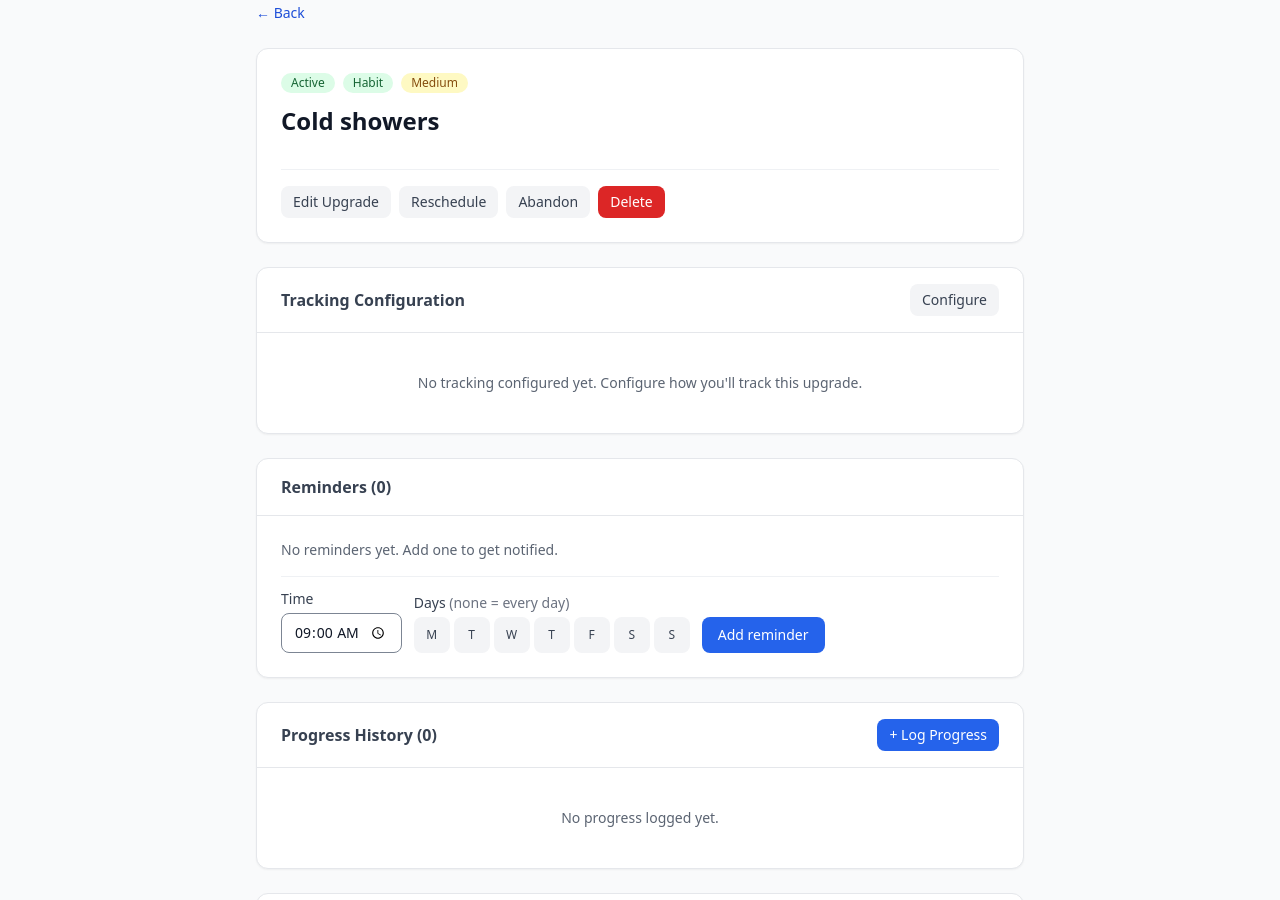
Test case: UpgradeDetailsPage › GivenAProgressEntryWasJustSaved_WhenLogProgressIsOpenedAgain_ThenTheFormIsEmpty
Expected: the heading "Cold showers" is shown, [281, 104, 440, 137]
Step 1. Click the button "+ Log Progress" → (938, 735), box [877, 719, 999, 751]
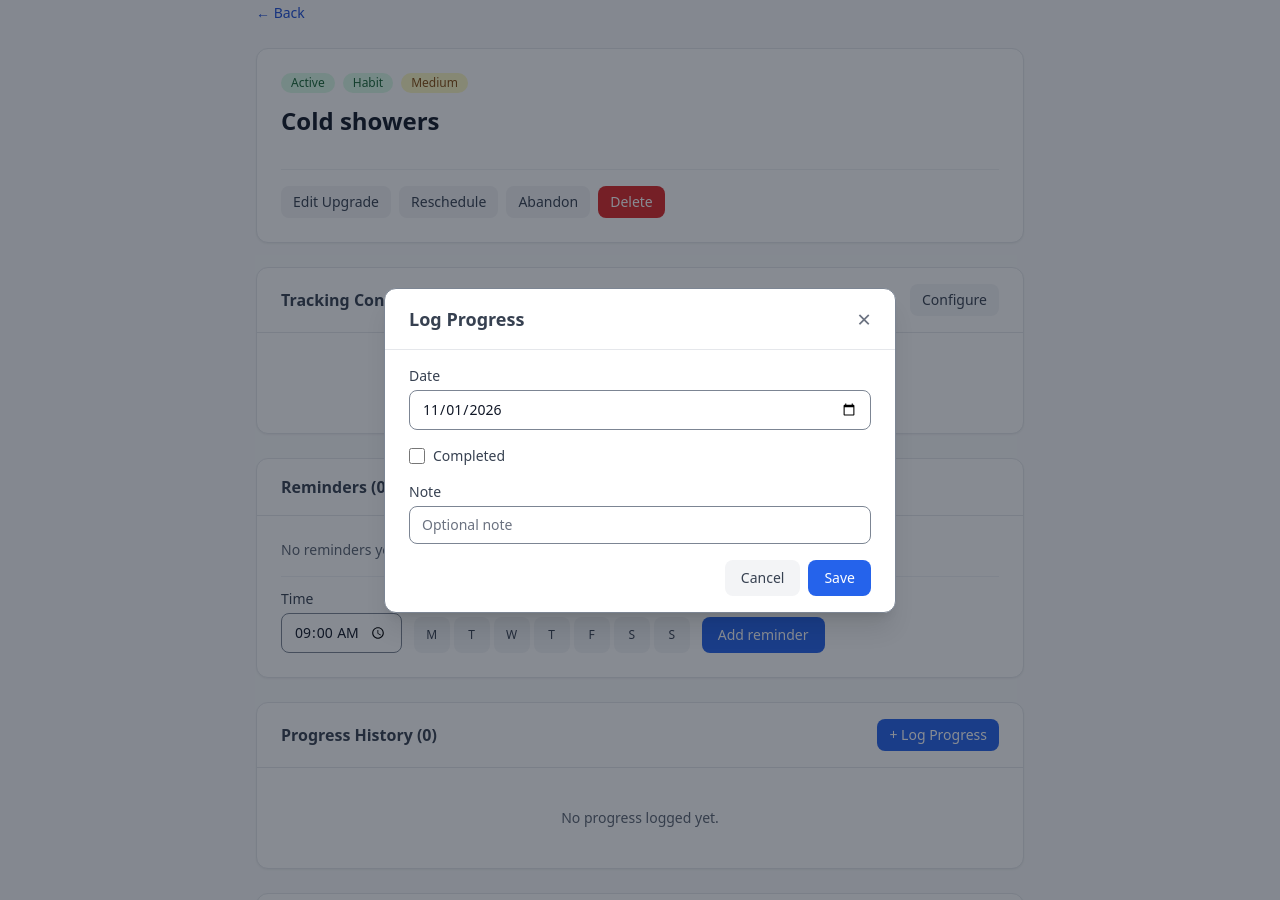
Step 2. Click the checkbox labelled "Completed" → (417, 456), box [409, 448, 425, 464]
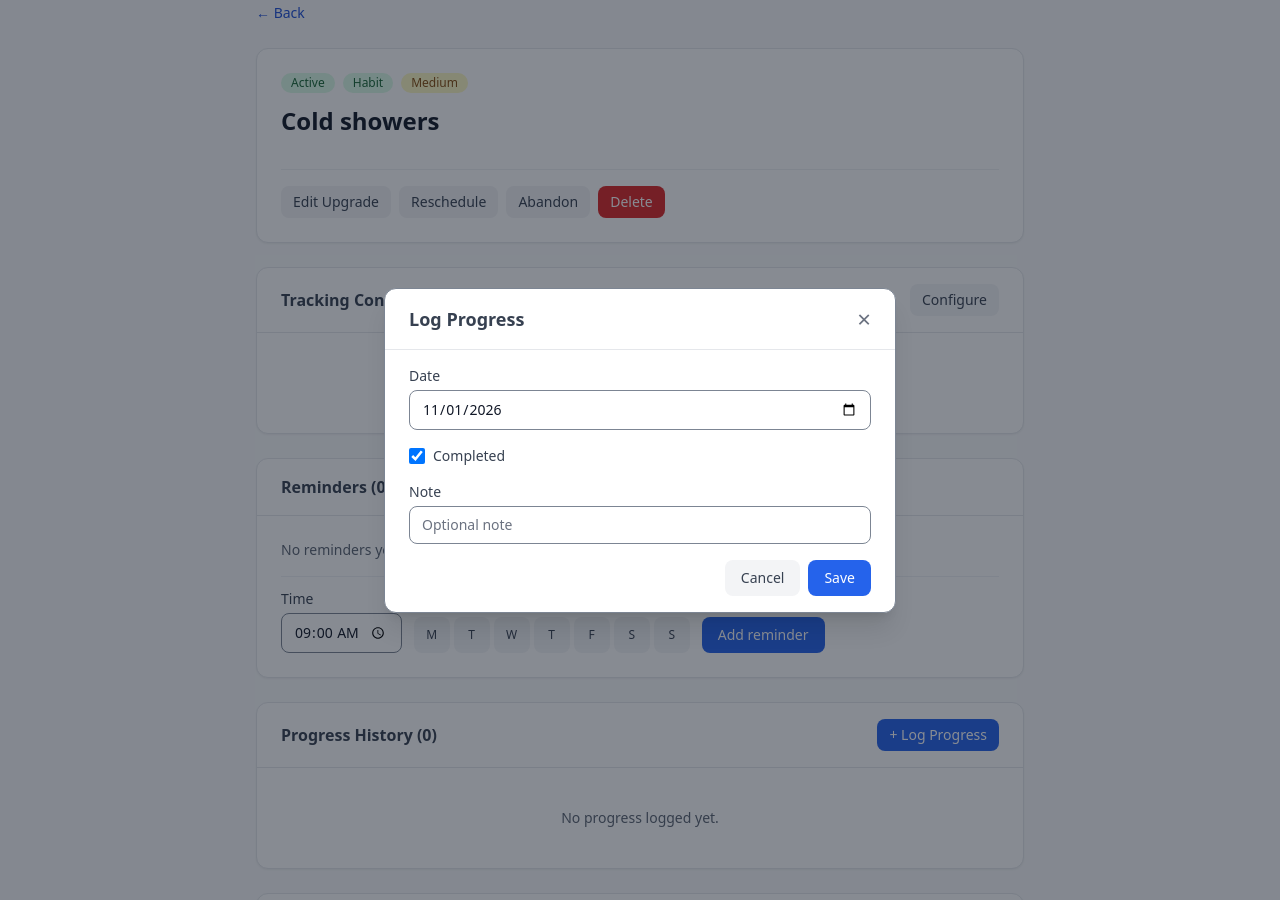
Step 3. Type "first go" into the field labelled "Note" → (640, 524), box [409, 506, 871, 544]
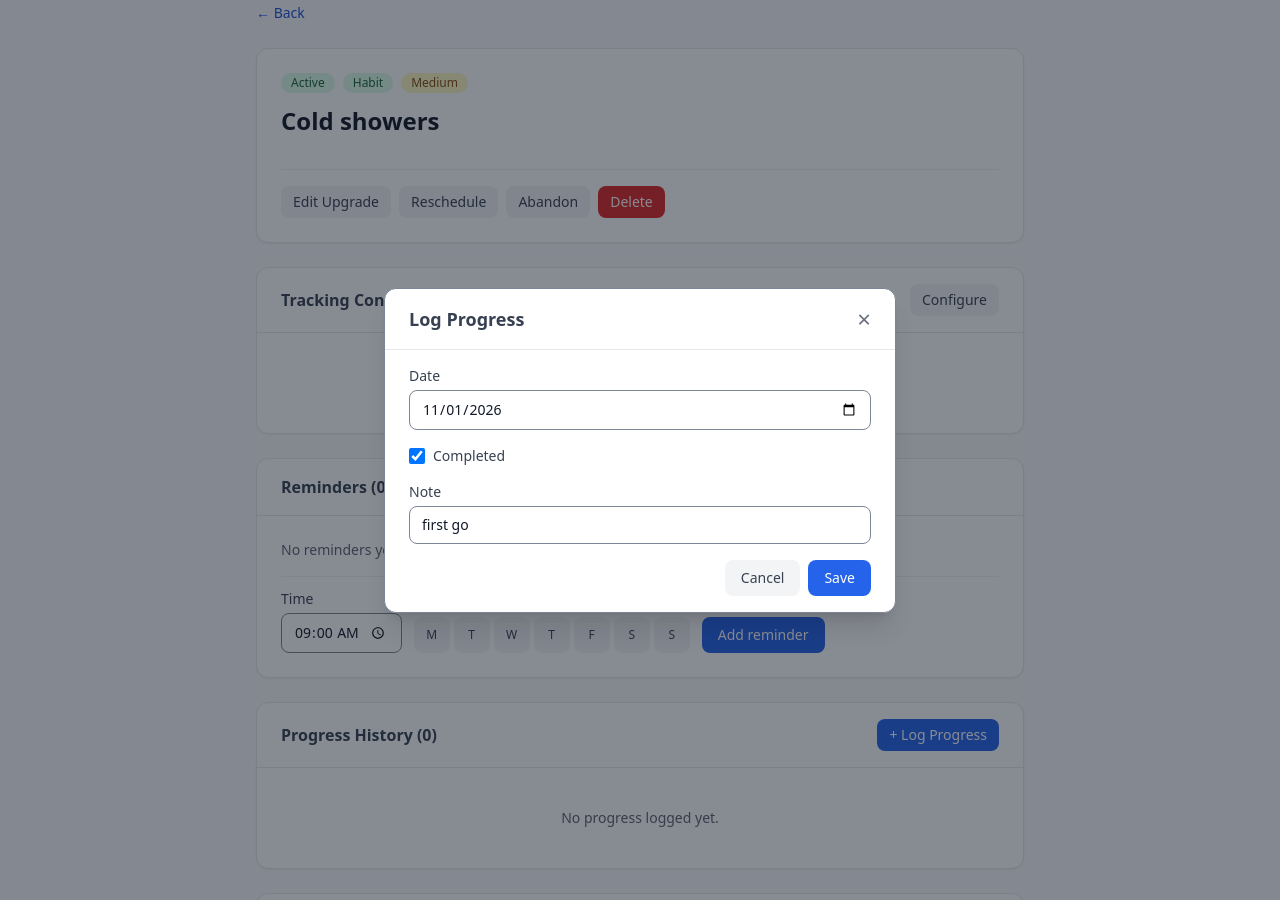
Step 4. Submit the form from the button "Save", box [808, 560, 871, 596]
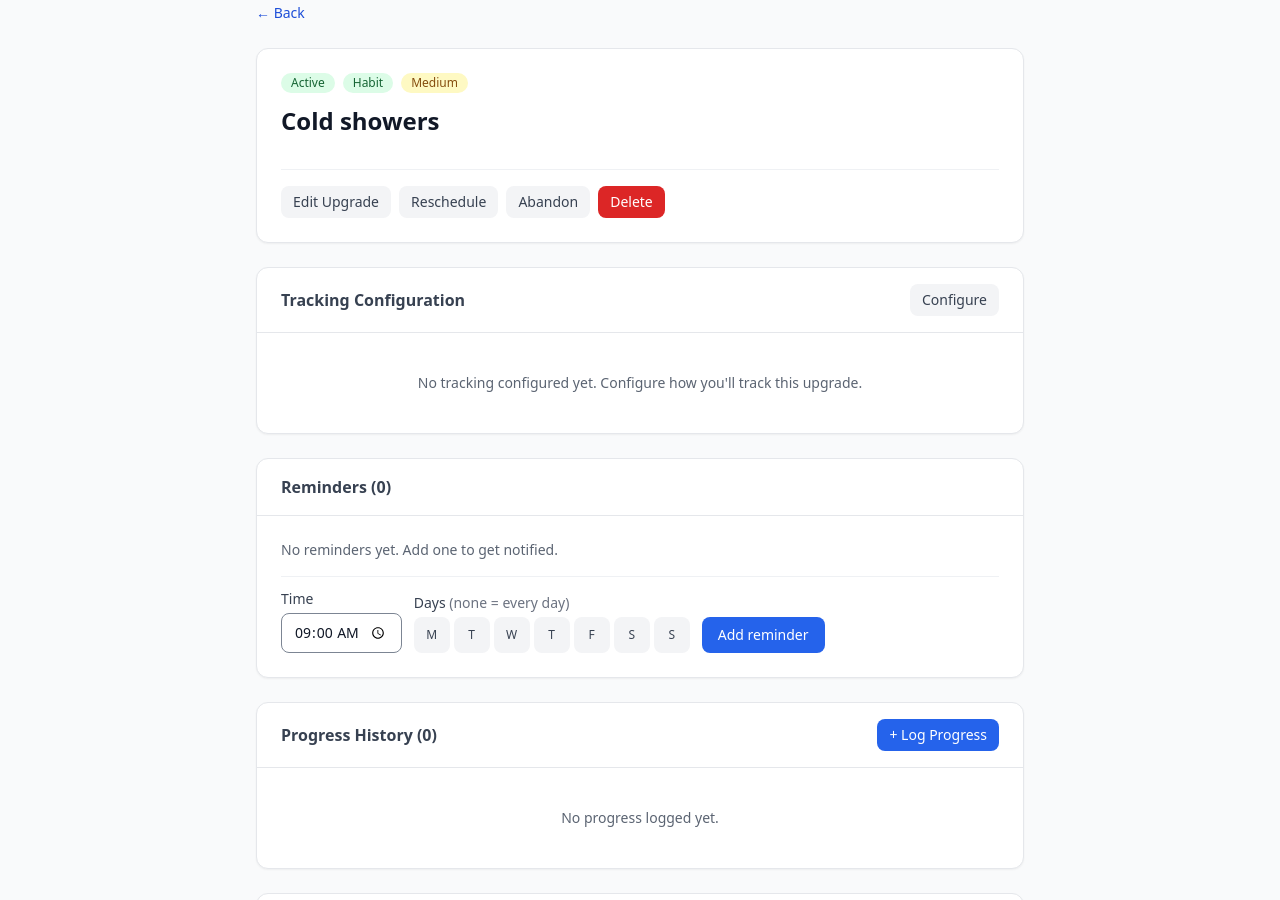
Result: the dialog is gone
Step 5. Click the button "+ Log Progress" → (938, 735), box [877, 719, 999, 751]
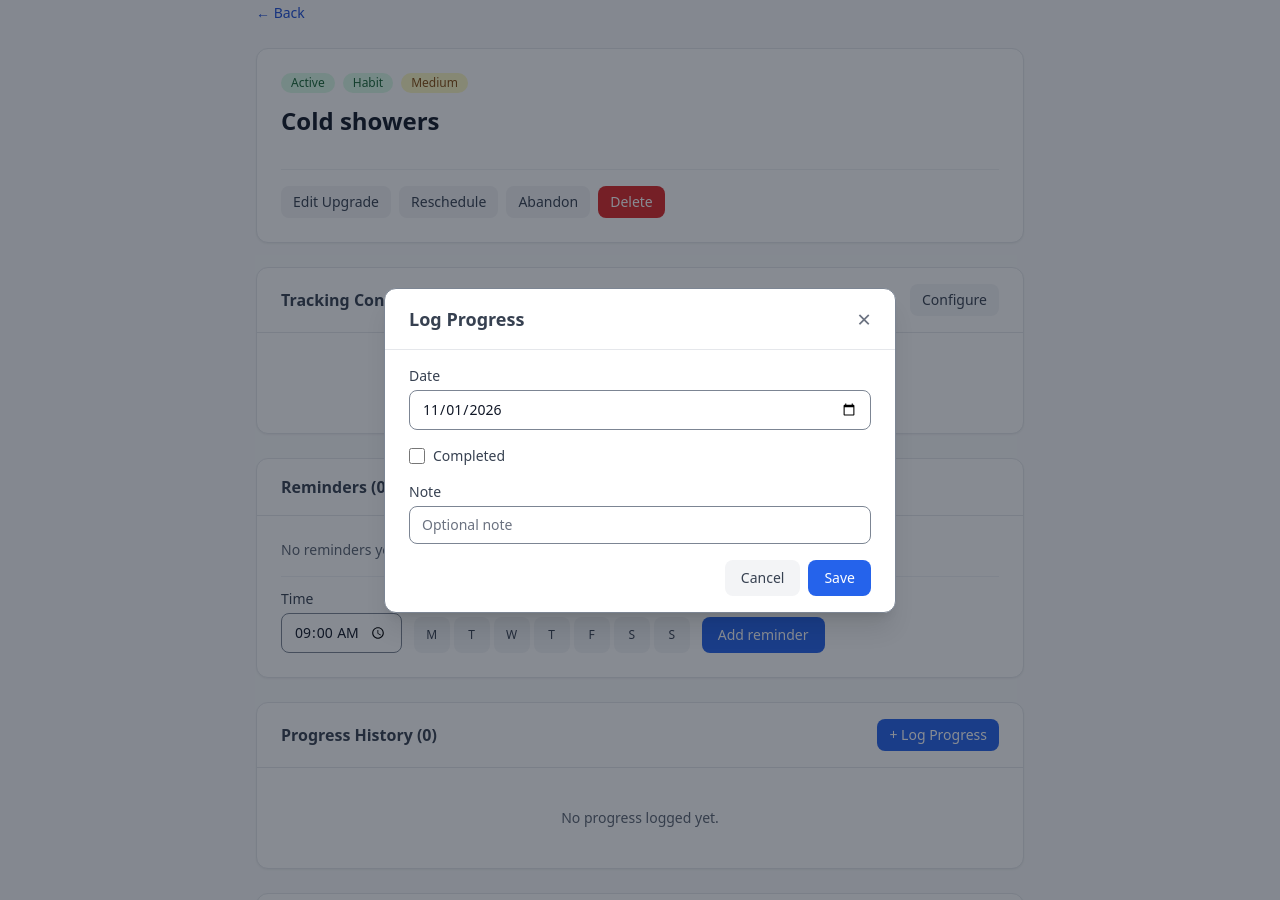
Result: the checkbox labelled "Completed" is not checked at [409, 448, 425, 464]
Result: the field labelled "Note" is empty at [409, 506, 871, 544]
